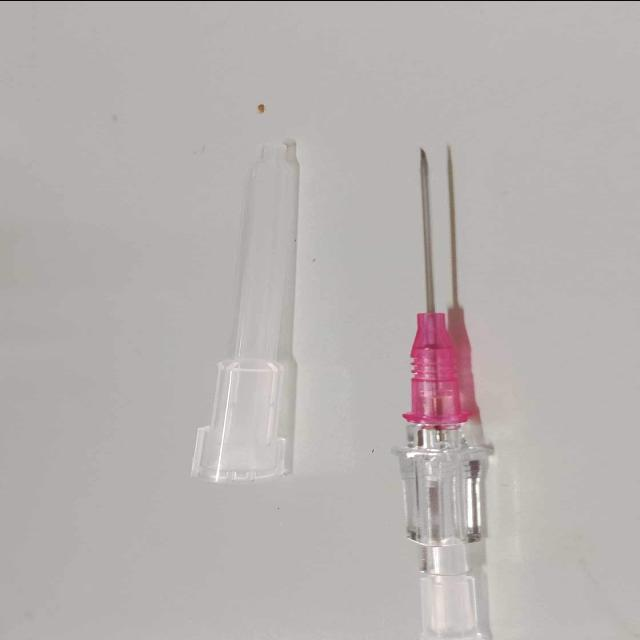General: (185, 135, 501, 637), (401, 310, 474, 430)
Sharps: (390, 143, 495, 639), (188, 138, 302, 484)
